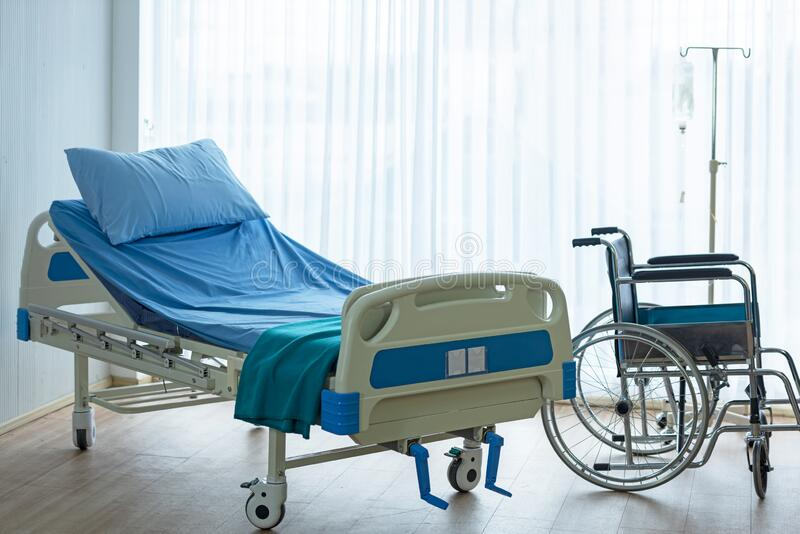bedrail: (28, 307, 218, 391)
foot_board: (333, 271, 579, 436)
hospital_bed: (25, 149, 580, 522)
iv_pole: (672, 43, 753, 304)
wheel_chair: (553, 223, 782, 503)
